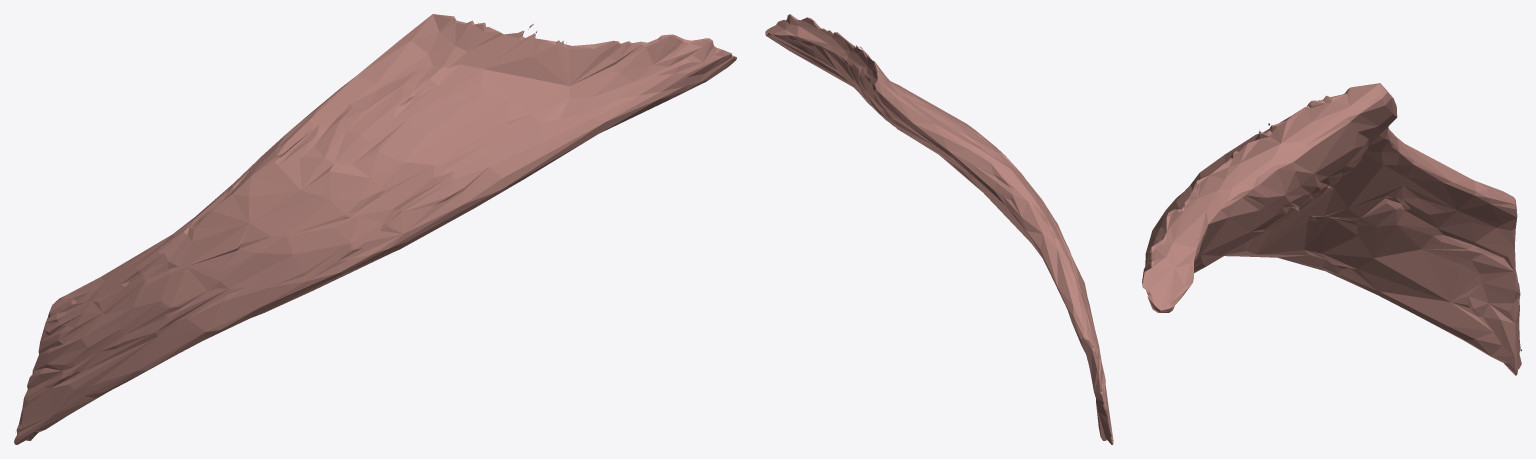
File: FMA34691.glb
The picture shows the model from 3 angles, left to right: view 1: azimuth 30°, elevation 25°; view 2: azimuth 150°, elevation 25°; view 3: azimuth 270°, elevation 25°; orthographic projection. The views are drawn at different scales.
Visible parts, largest first — view 1: A.FMA34691; view 2: A.FMA34691; view 3: A.FMA34691.
Part boxes in pixels (box(x1,y1,x2,y2)): A.FMA34691: box(14, 14, 736, 444); A.FMA34691: box(765, 14, 1113, 444); A.FMA34691: box(1142, 83, 1521, 375).
Bounding box in the file's own units: 0.1678 × 0.1014 × 0.0631.
